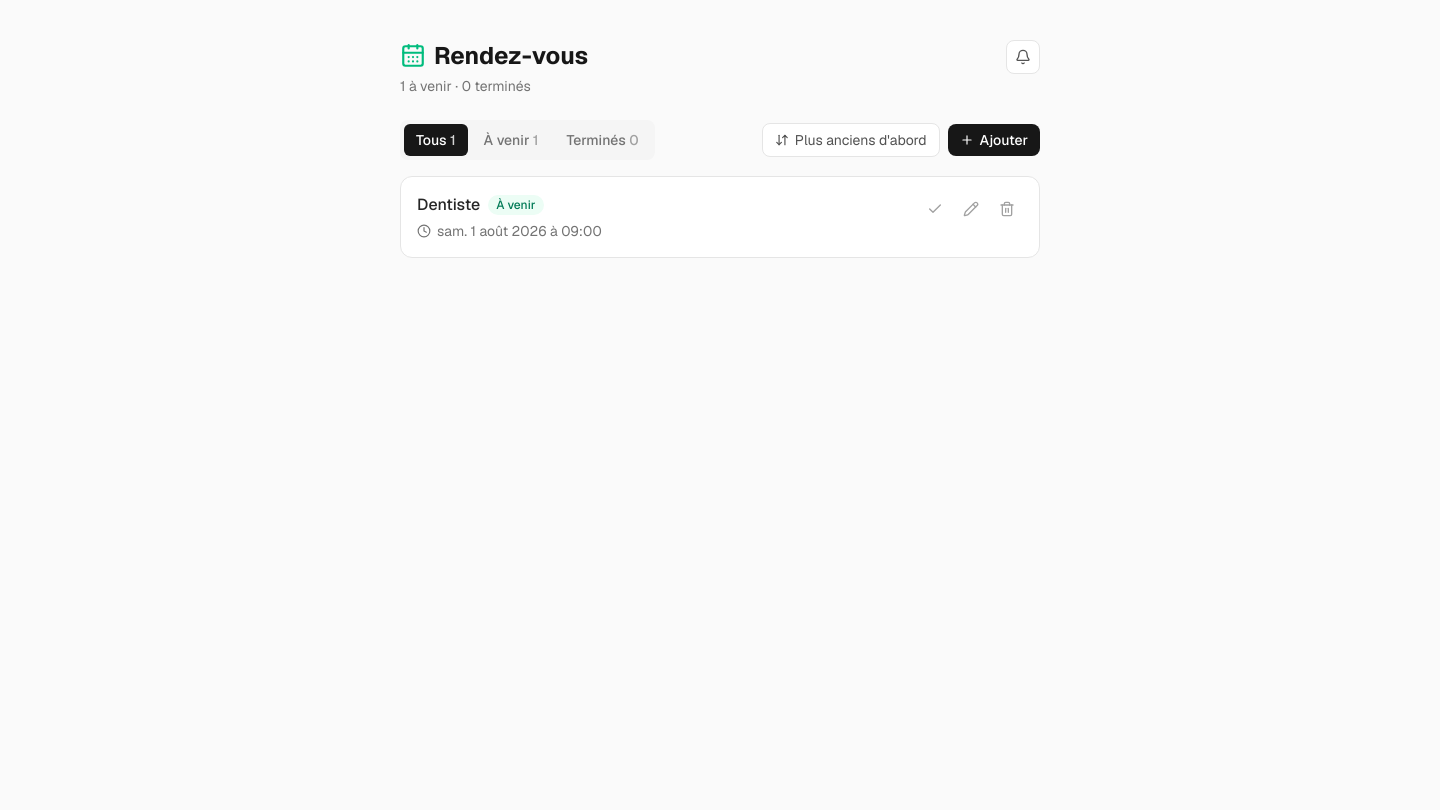
the appointment form dialog › opens prefilled when editing an existing appointment
Click the button named "Modifier".
click(971, 209)  # box [955,193,987,225]
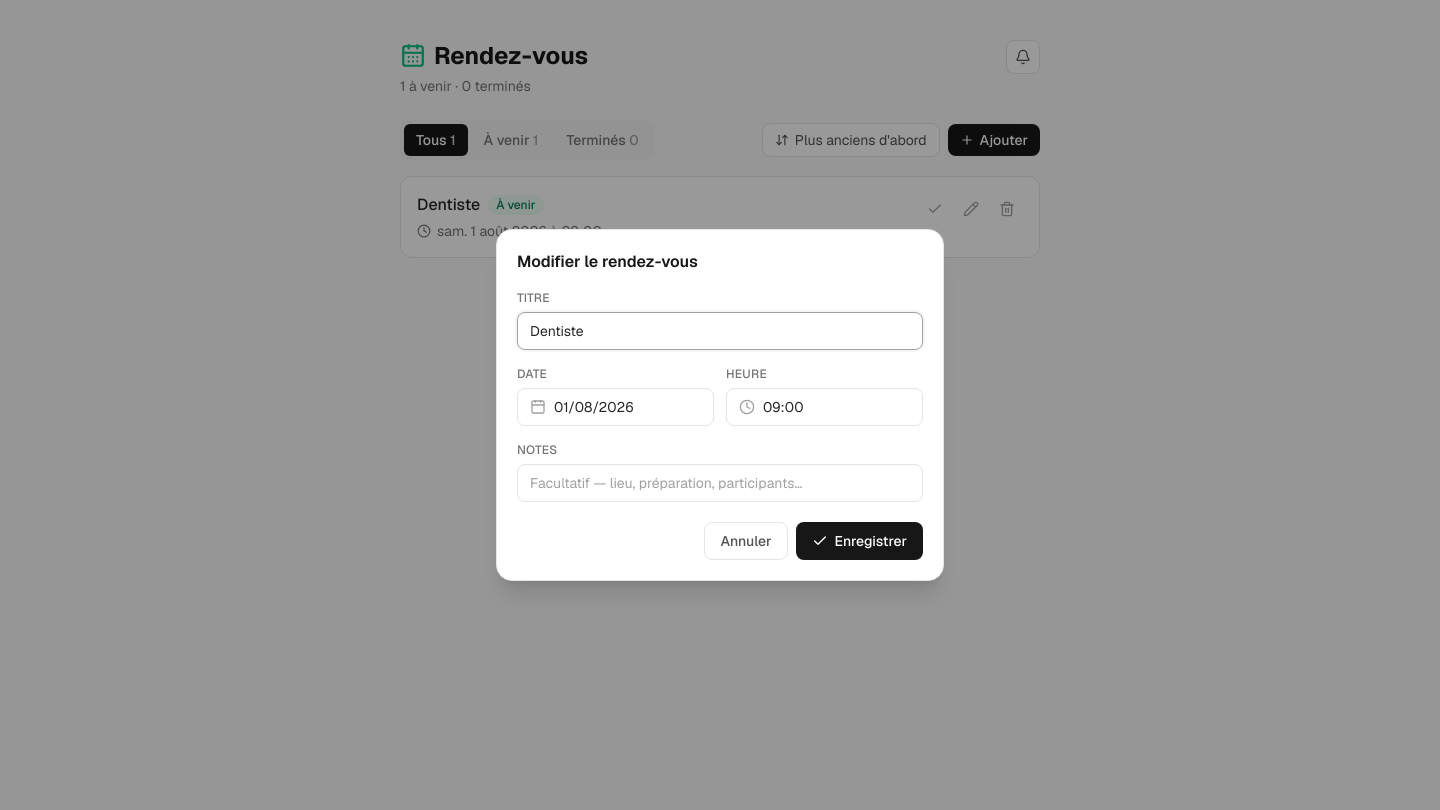
Check: the heading "Modifier le rendez-vous" is shown, box [517,251,698,272]
Check: the field labelled "Titre" holds "Dentiste", box [517,312,923,350]
